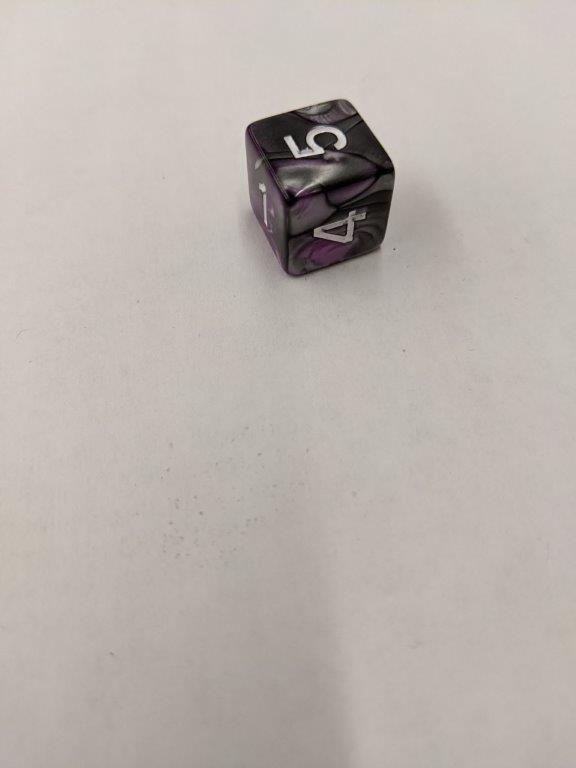d6-5: (246, 100, 394, 274)
